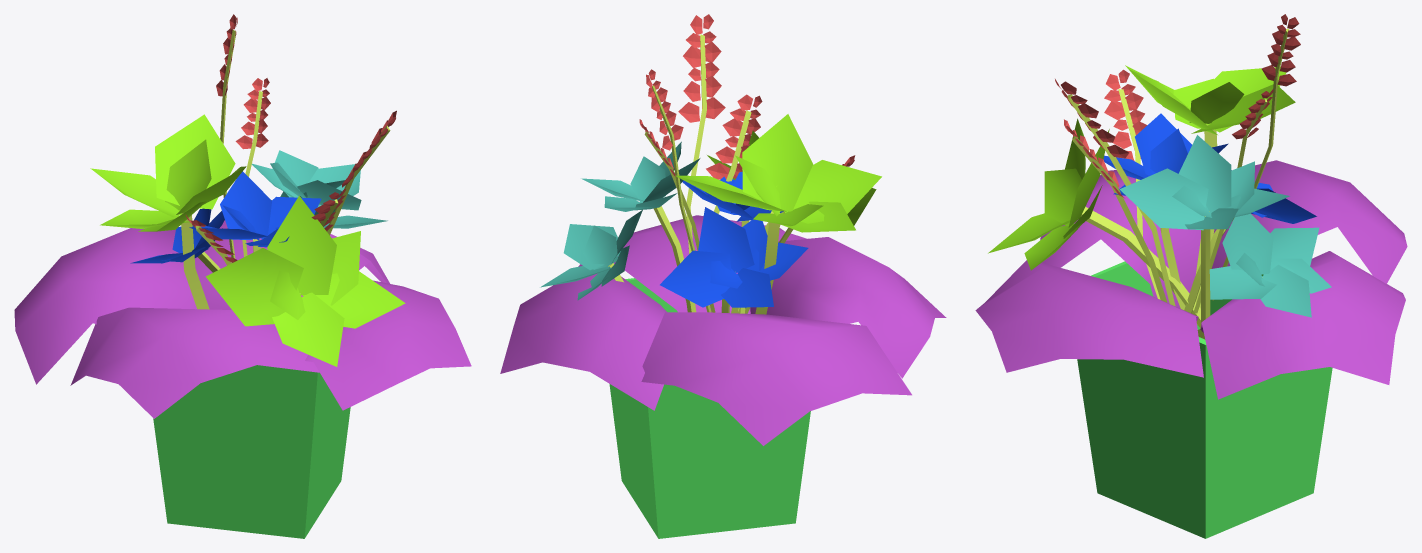
The model's file is SM_Flowers.FBX.
3 views of the same model, side by side, from view 1: azimuth 30°, elevation 25°; view 2: azimuth 150°, elevation 25°; view 3: azimuth 270°, elevation 25° (orthographic). The views are drawn at different scales.
Visible parts, largest first — view 1: Line001; view 2: Line001; view 3: Line001.
Boxes of the visible parts, x1,y1,x2,y2 form: Line001: [14, 14, 471, 538]; Line001: [500, 14, 946, 538]; Line001: [975, 14, 1407, 538].
Bounding box in the file's own units: 37.39 × 44.61 × 35.66.
